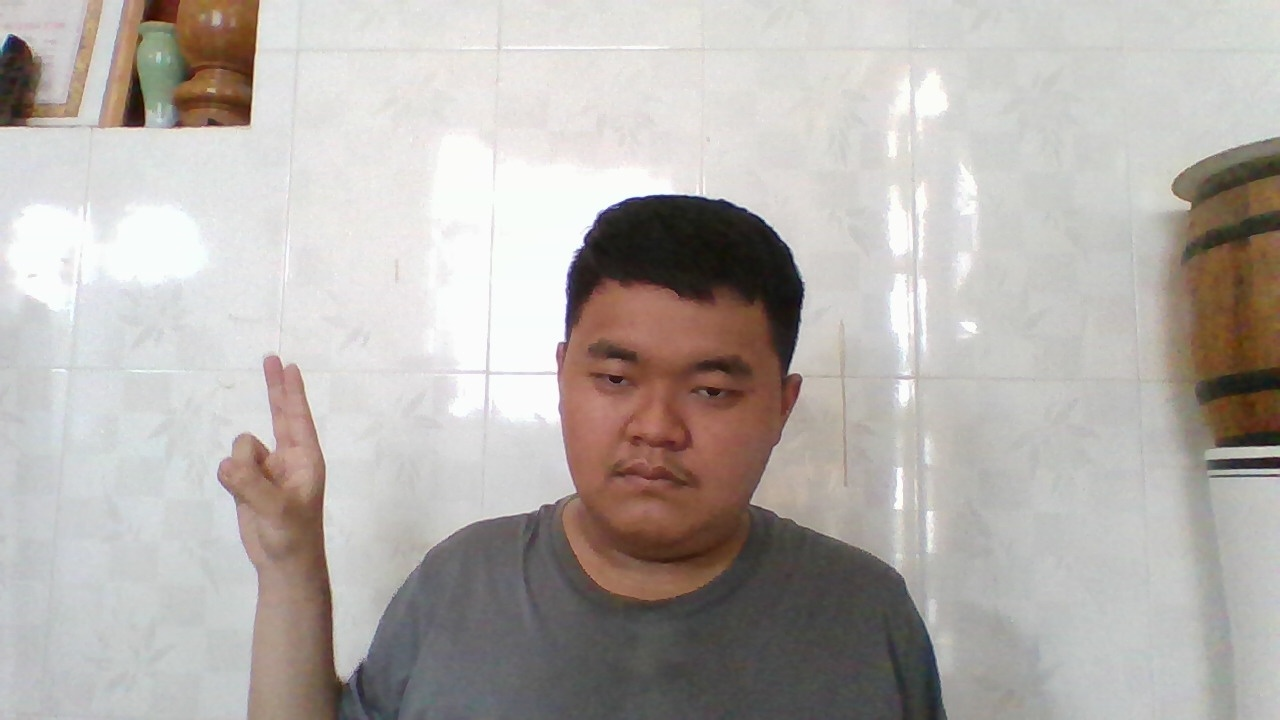U: (208, 346, 322, 575)
